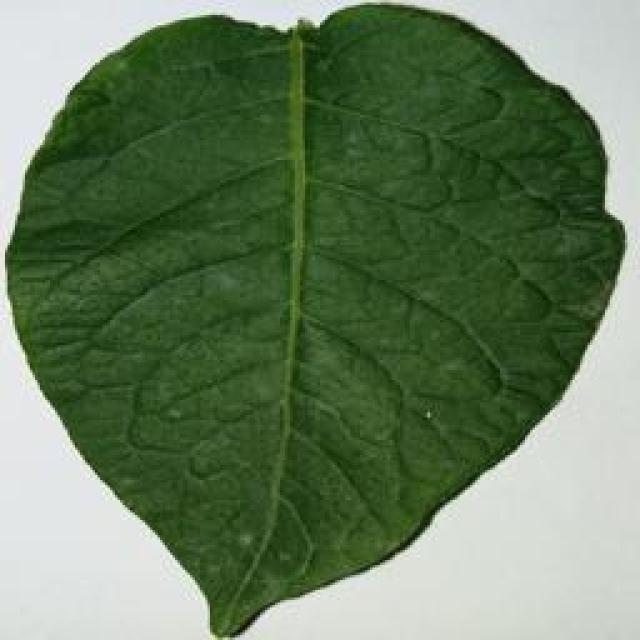Potato_Healthy: (14, 7, 612, 632)
